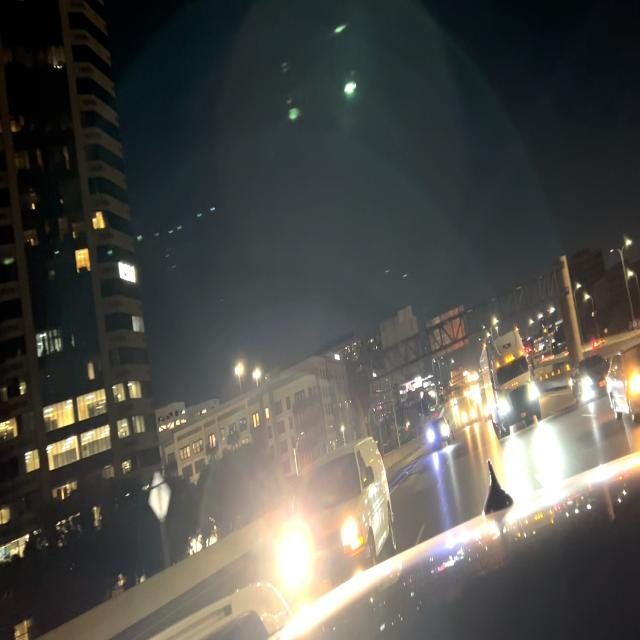back-of-sign: (379, 307, 423, 387), (428, 304, 469, 364), (148, 469, 171, 523)
